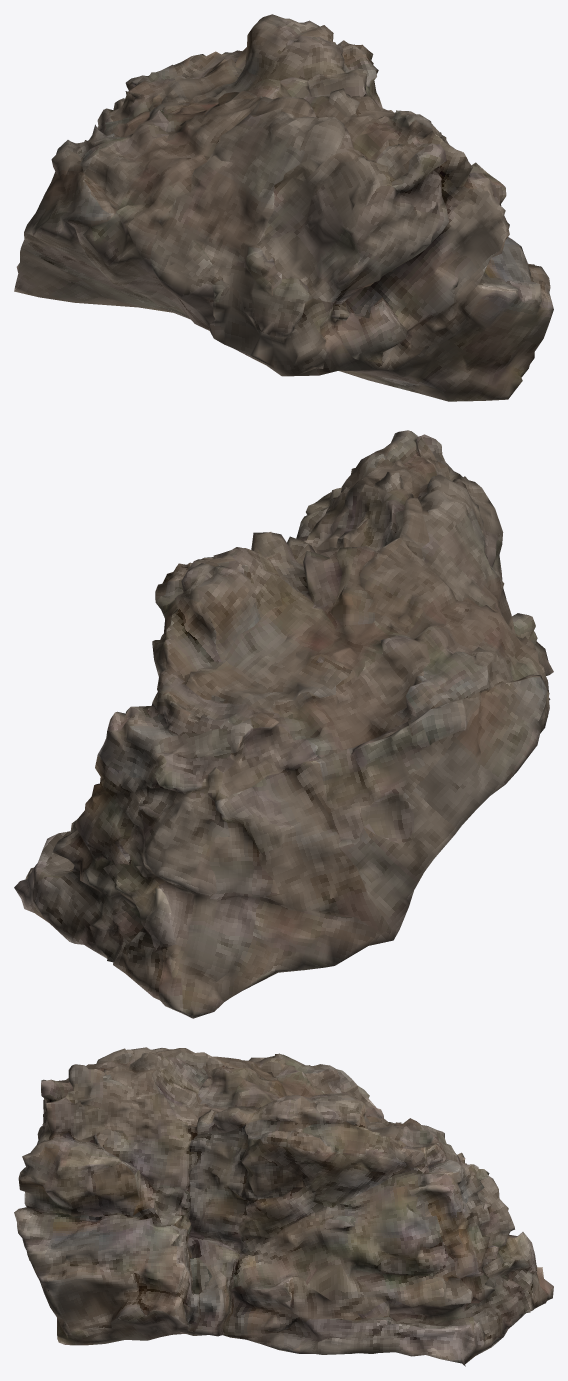
Rendered from grounded-boulder-weathered.glb.
3 views of the same model, one above another, from view 1: azimuth 30°, elevation 25°; view 2: azimuth 150°, elevation 25°; view 3: azimuth 270°, elevation 25° (orthographic). The views are drawn at different scales.
Visible parts, largest first — view 1: grounded-boulder-weathered runtime mesh; view 2: grounded-boulder-weathered runtime mesh; view 3: grounded-boulder-weathered runtime mesh.
Boxes of the visible parts, x1,y1,x2,y2 form: grounded-boulder-weathered runtime mesh: (14, 14, 553, 401); grounded-boulder-weathered runtime mesh: (14, 430, 553, 1018); grounded-boulder-weathered runtime mesh: (14, 1047, 553, 1366).
Size of the model in its own units: 1.25 by 0.9876 by 1.8.
1 material, 1 textured.
